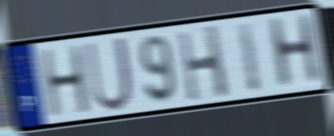9: (140, 33, 179, 106)
H: (265, 11, 324, 93), (175, 22, 232, 104), (38, 42, 94, 120)
I: (235, 19, 264, 96)
U: (82, 34, 135, 114)
